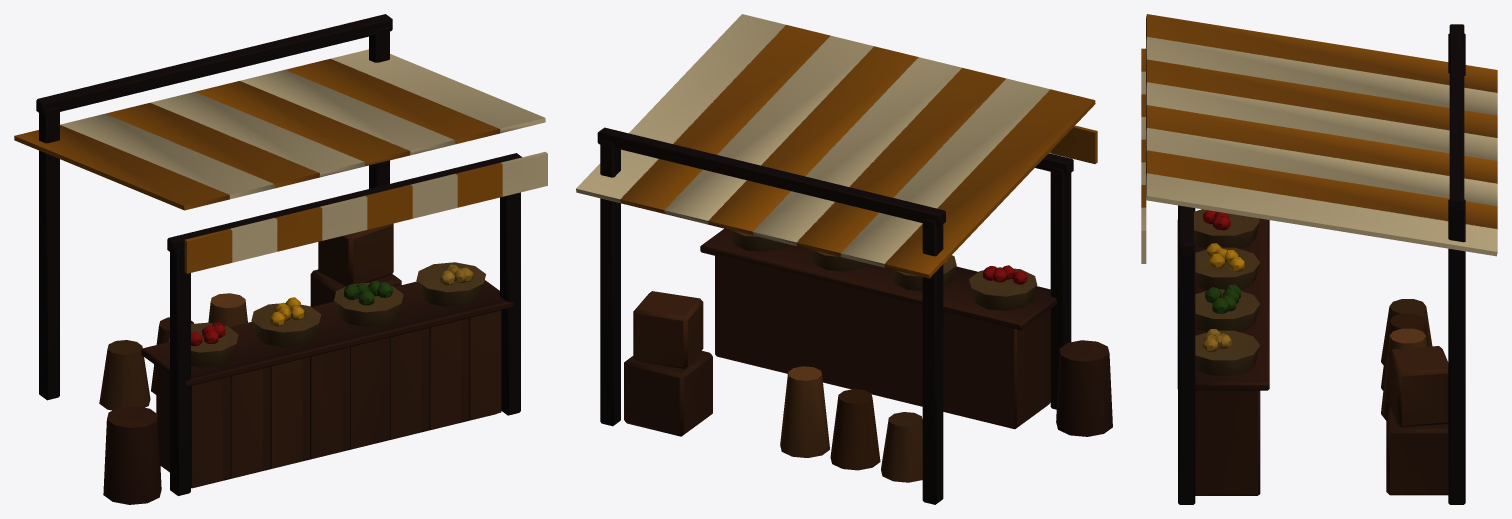
The model's file is Barraca4Y.fbx.
The picture shows the model from 3 angles, left to right: view 1: azimuth 30°, elevation 25°; view 2: azimuth 150°, elevation 25°; view 3: azimuth 270°, elevation 25°; orthographic projection. The views are drawn at different scales.
Visible parts, largest first — view 1: Barraca4Y; view 2: Barraca4Y; view 3: Barraca4Y.
Part boxes in pixels (x1,y1,x2,y2): Barraca4Y: (14,14,547,504); Barraca4Y: (576,14,1112,504); Barraca4Y: (1141,14,1497,504).
Bounding box in the file's own units: 3.94 × 2.82 × 2.9.
